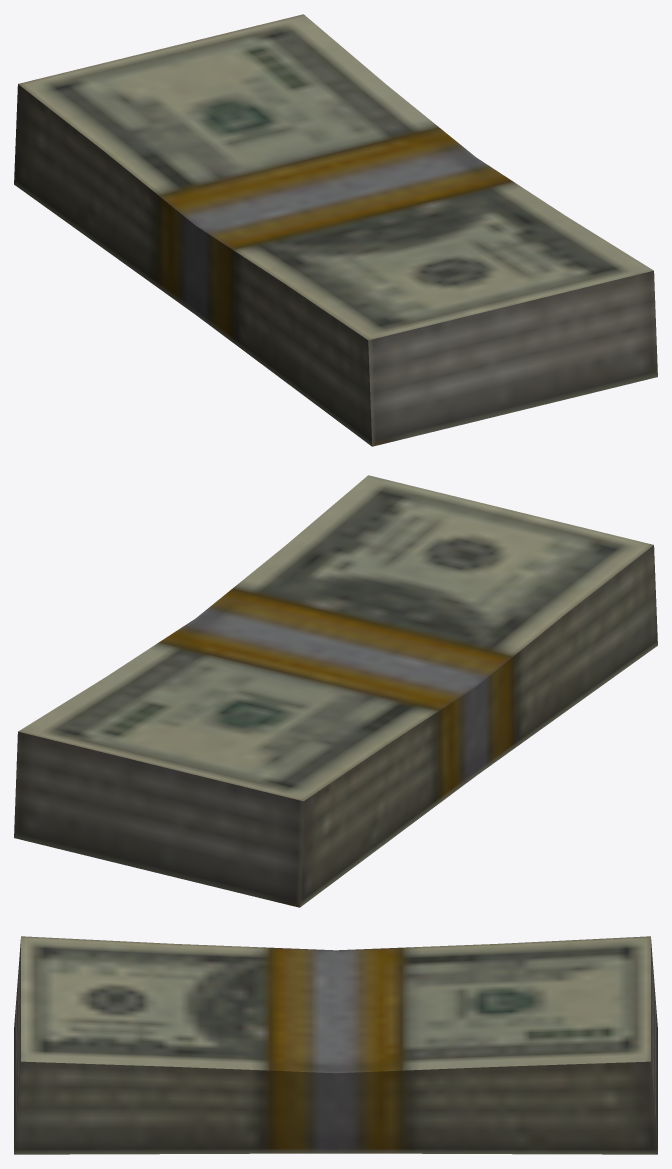
File: cash_1_2.obj
3 renders of one model, top to bottom at view 1: azimuth 30°, elevation 25°; view 2: azimuth 150°, elevation 25°; view 3: azimuth 270°, elevation 25°, orthographic. The views are drawn at different scales.
Visible parts, largest first — view 1: cash_1_2; view 2: cash_1_2; view 3: cash_1_2.
Boxes of the visible parts, x1,y1,x2,y2 form: cash_1_2: (14,14,657,446); cash_1_2: (14,475,657,907); cash_1_2: (14,936,657,1154).
Size of the model in its own units: 0.1051 by 0.0364 by 0.2281.
